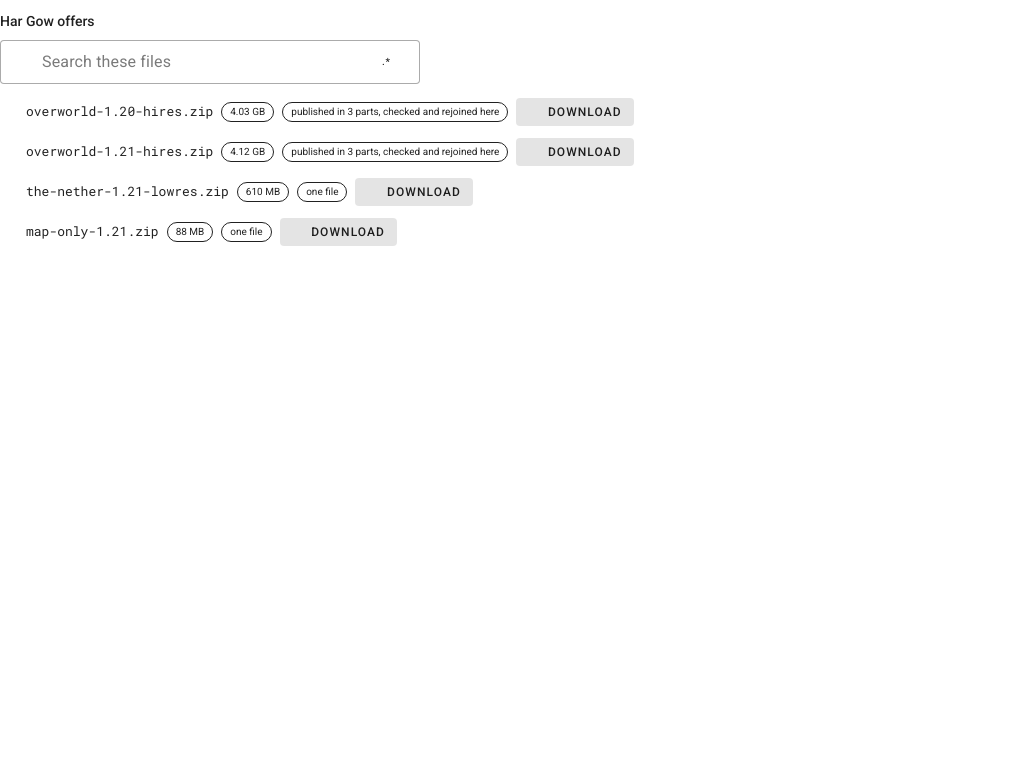
the builder, opened from this field › applies its pattern to this field's search, and turns regex on by doing so
Click the button named "Open the regex builder" at (386, 62), box 364,40 -> 408,84
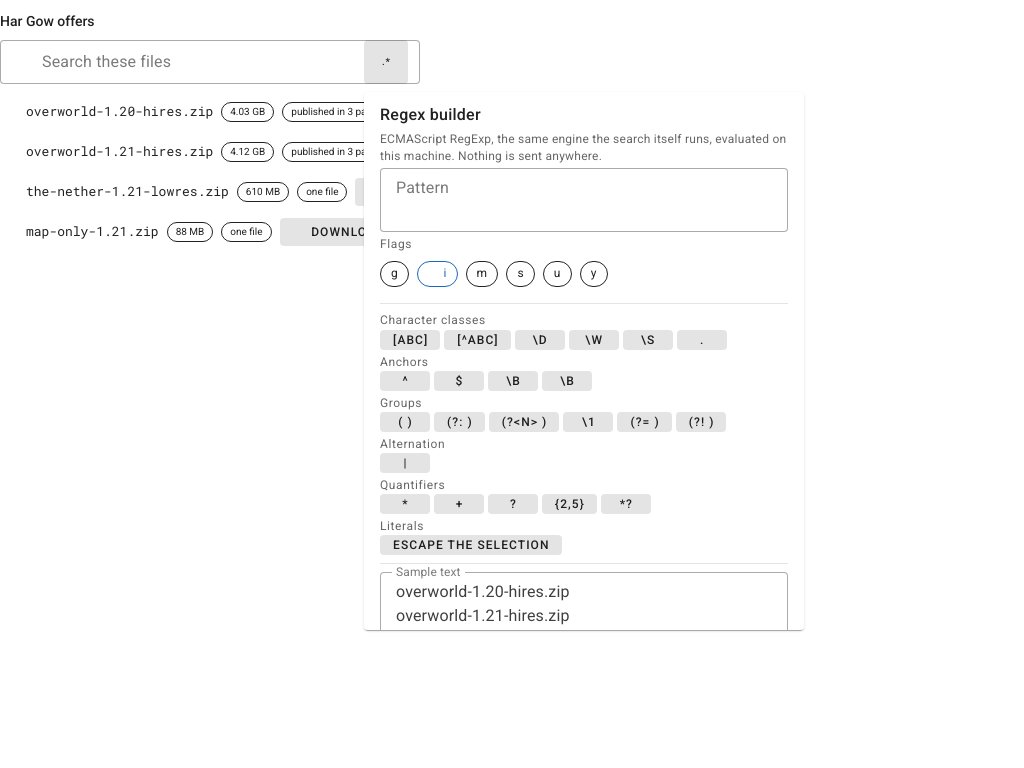
Type "^overworld-1\\.21" into the text box labelled "Pattern" at (584, 200), box 380,168 -> 788,232
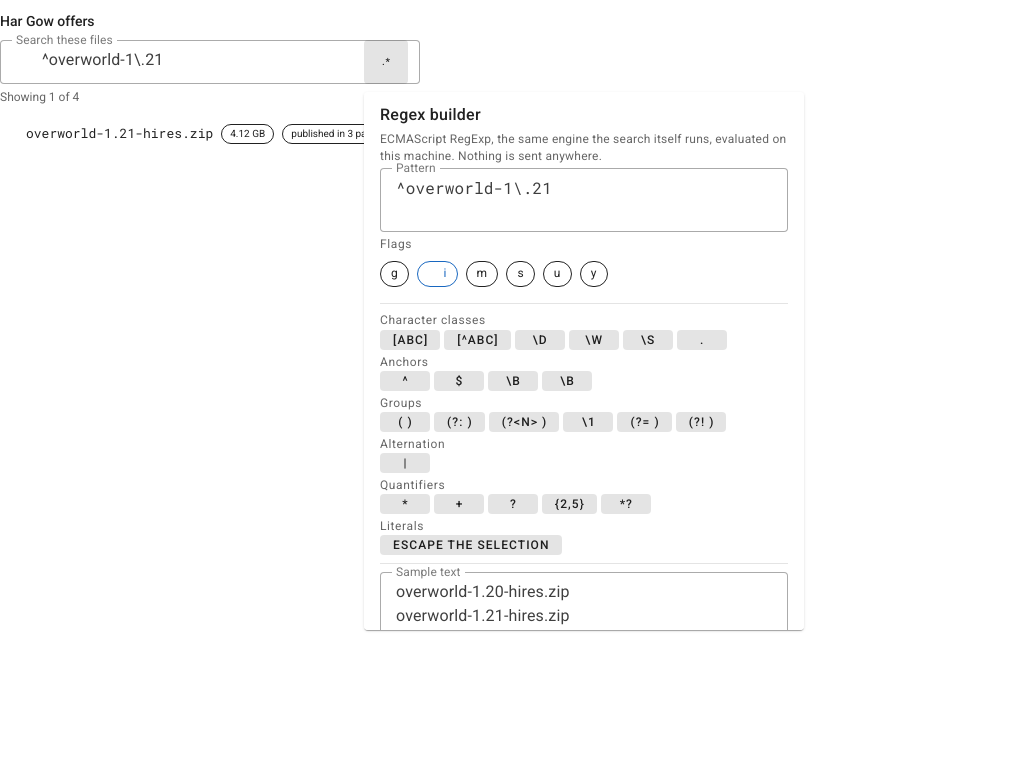
Expected: the search field labelled "Search these files" holds "^overworld-1\\.21", 36,40 -> 276,80
